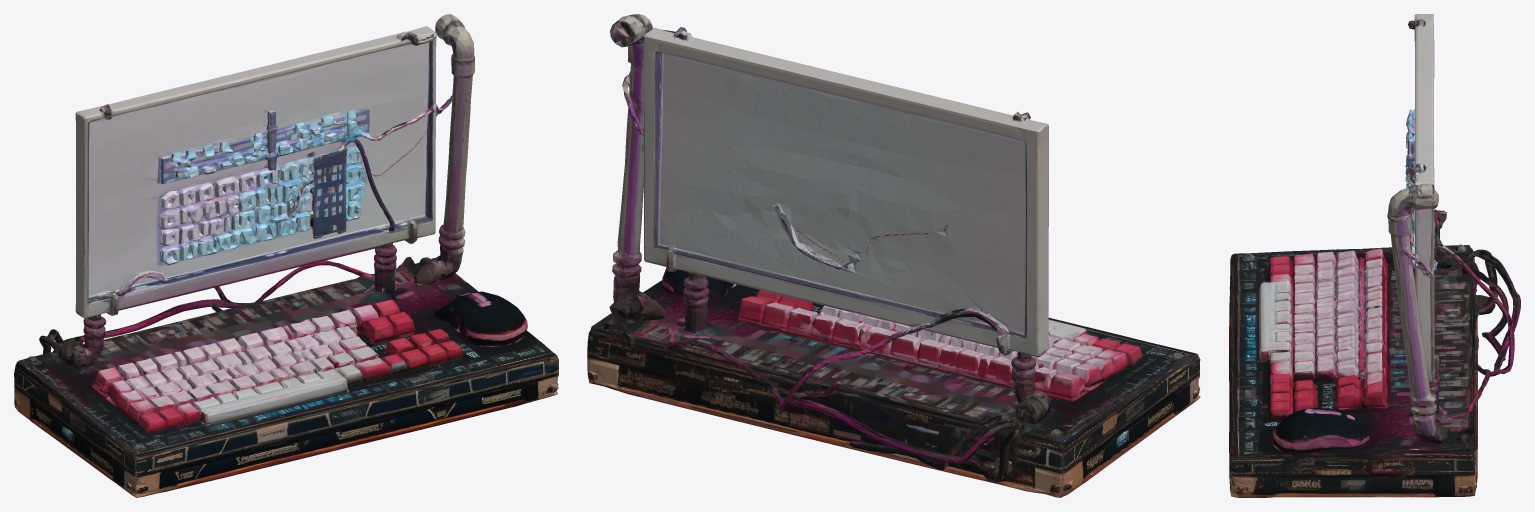
Rendered from head (322).glb.
3 renders of one model, left to right at view 1: azimuth 30°, elevation 25°; view 2: azimuth 150°, elevation 25°; view 3: azimuth 270°, elevation 25°, orthographic. The views are drawn at different scales.
Parts seen in each view (by area): view 1: Hy21_Mesh.obj; view 2: Hy21_Mesh.obj; view 3: Hy21_Mesh.obj.
Boxes of the visible parts, x1,y1,x2,y2 form: Hy21_Mesh.obj: (14, 14, 558, 497); Hy21_Mesh.obj: (587, 14, 1200, 497); Hy21_Mesh.obj: (1229, 14, 1520, 497).
Bounding box in the file's own units: 1.95 × 1.37 × 1.16.
1 material, 1 textured.
